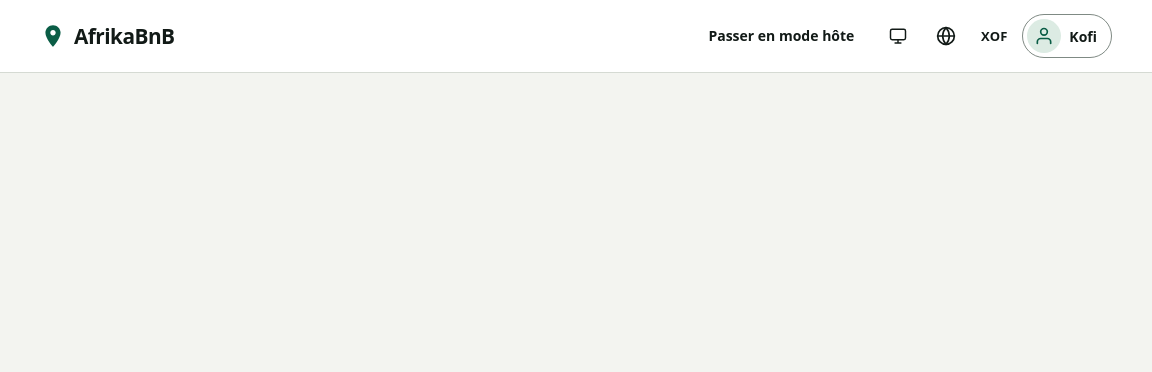
Test: Header — connected user menu › the account button opens the menu with profile, favourites, host space, map and logout
This screenshot has width=1152, height=372.
Click the button with aria-label "Menu du compte": (1067, 36) [1022,14,1112,58]
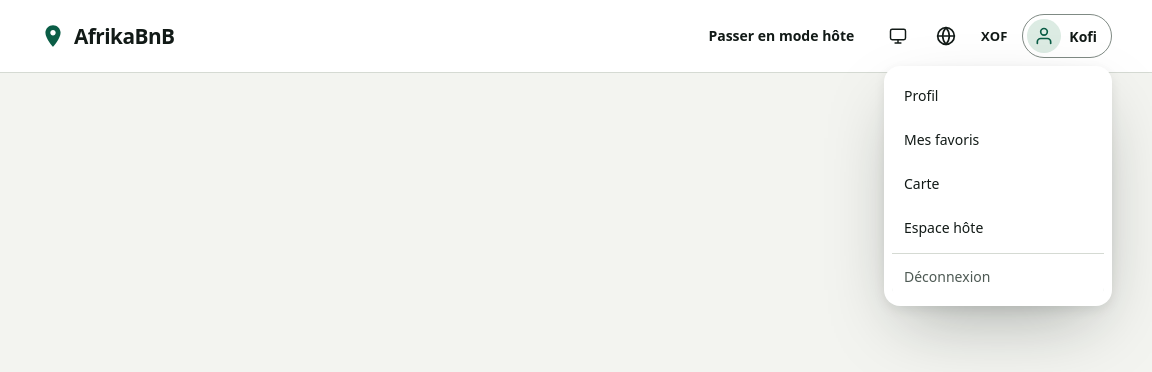
expect the button "Déconnexion" is shown: met, box [892,254,1104,298]
